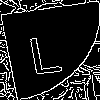L: (25, 25, 64, 76)
